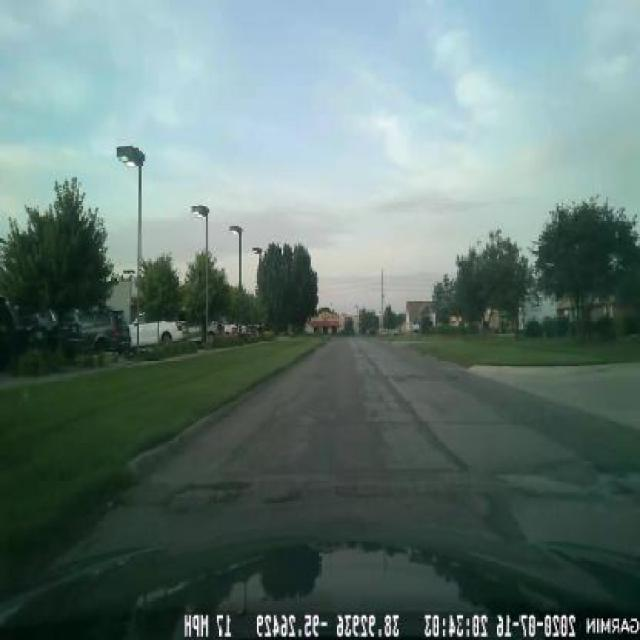pothole: (156, 476, 254, 521)
